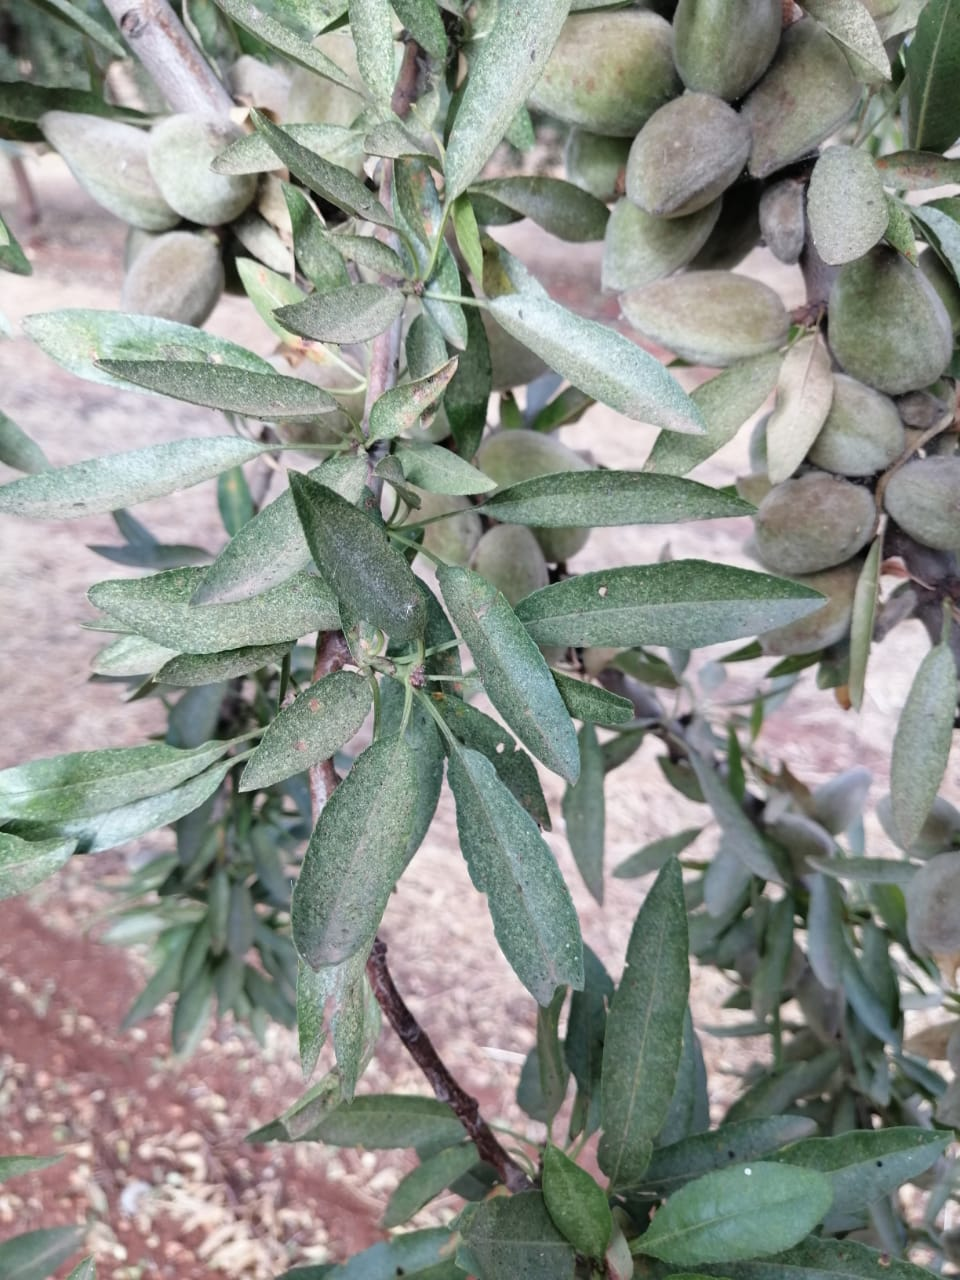acariens: (449, 742, 586, 1010), (432, 557, 584, 787), (290, 727, 429, 973), (596, 854, 691, 1192), (278, 461, 429, 646), (515, 558, 834, 644), (1, 433, 265, 517), (1, 738, 234, 822), (94, 354, 346, 423), (471, 471, 759, 531)
